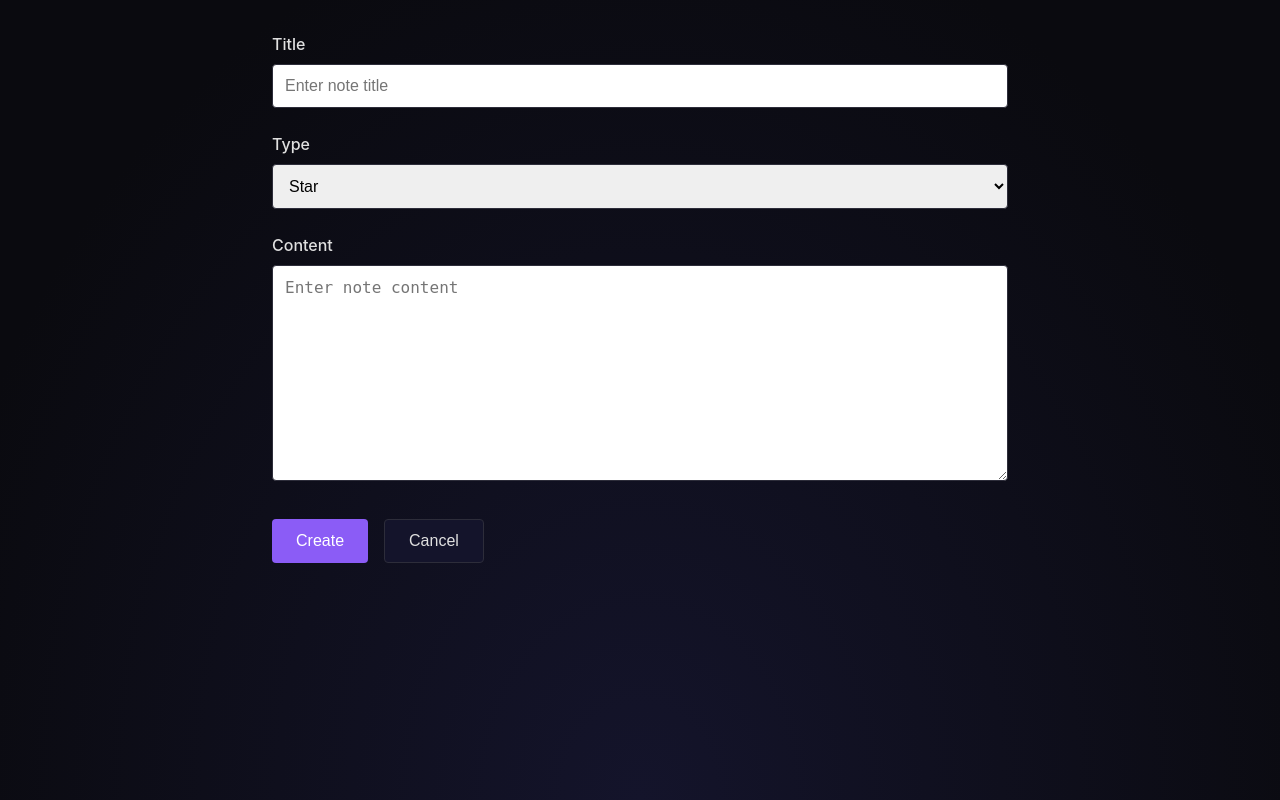
Test case: NoteEditor › Create mode › should display error message when creation fails
Type "Test Note" into the field with test id "title-input" at [640, 86], box [272,64,1008,108]
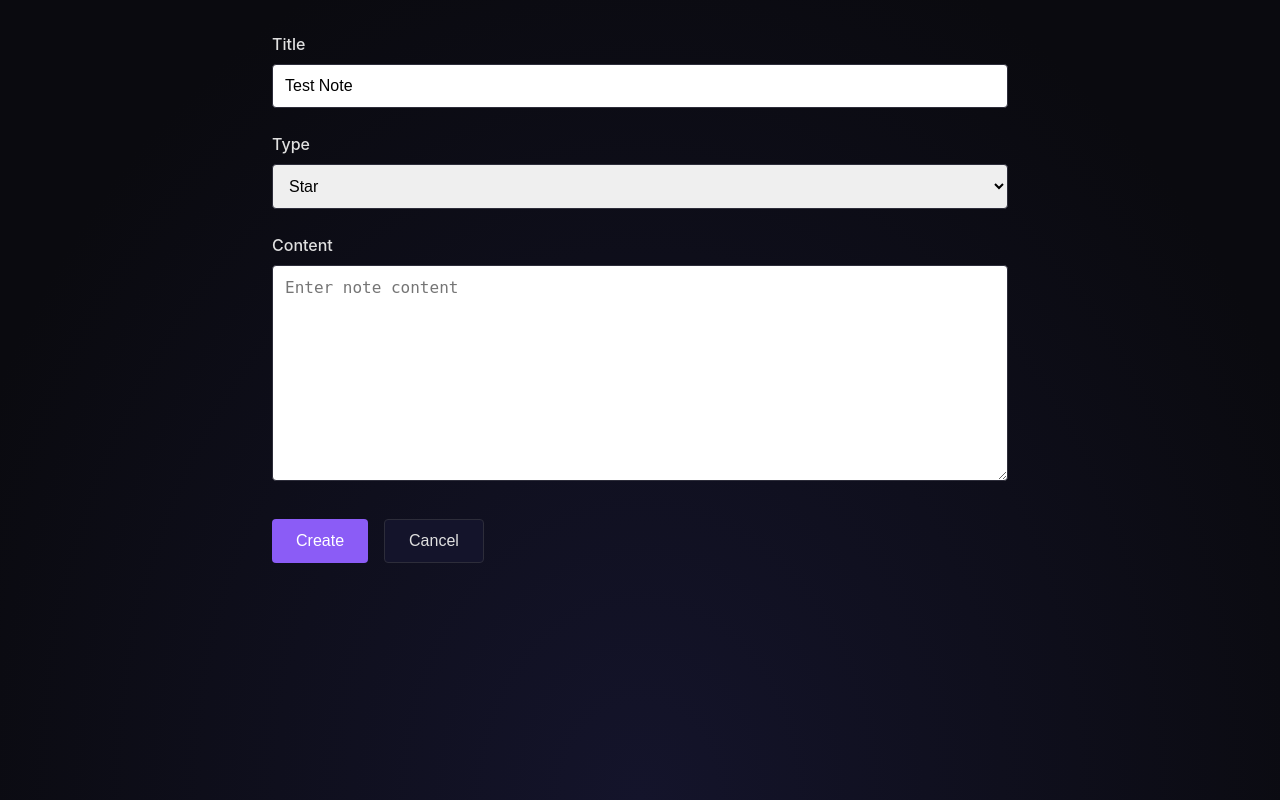
Click the button with test id "save-button" at [320, 541], box [272,519,368,563]
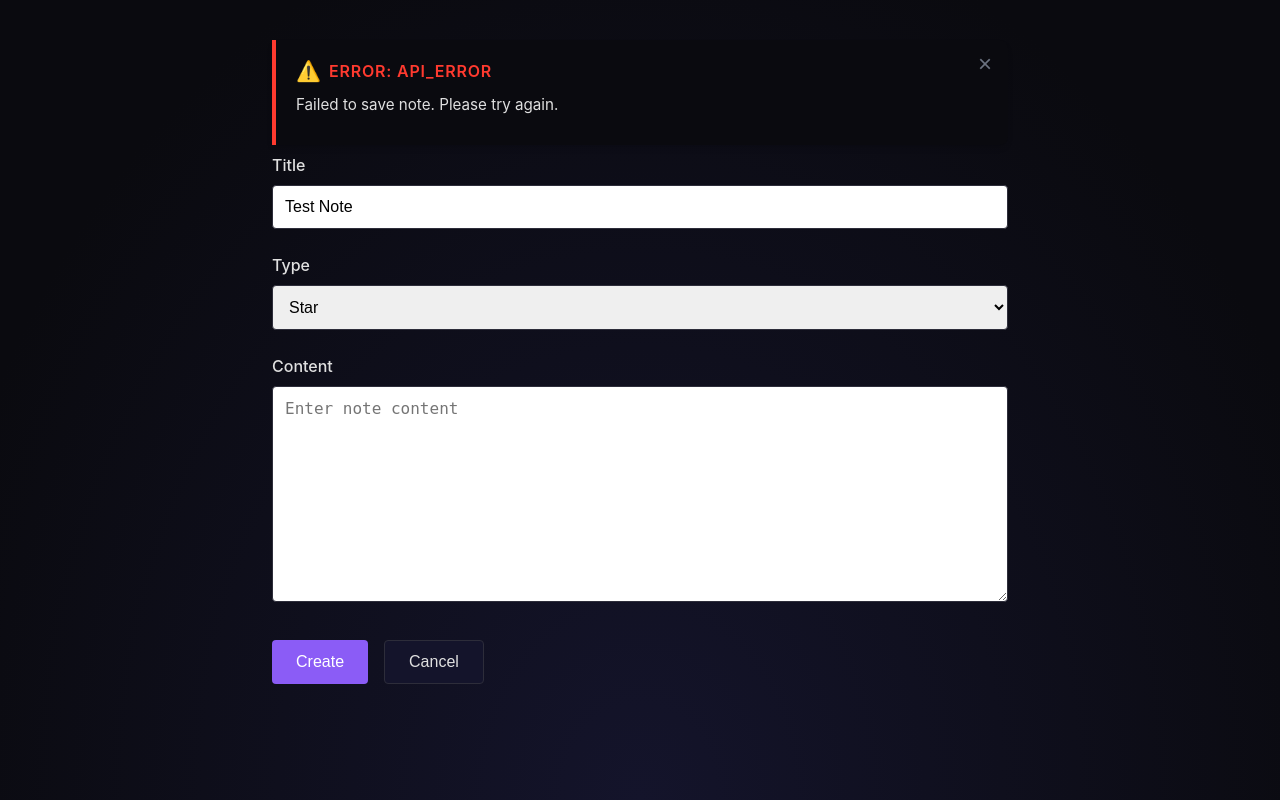
Now the message shows "Failed to save note", box [296,95,558,114]
